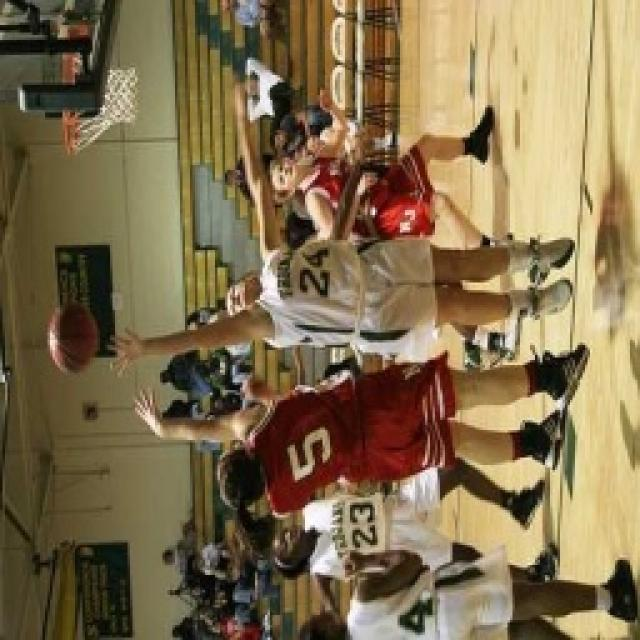rim: (43, 302, 104, 376)
